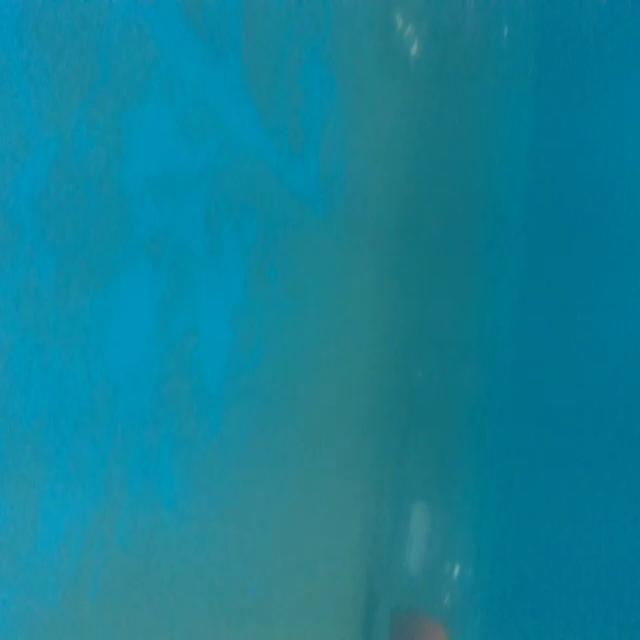plastic bottle: (386, 361, 492, 640)
